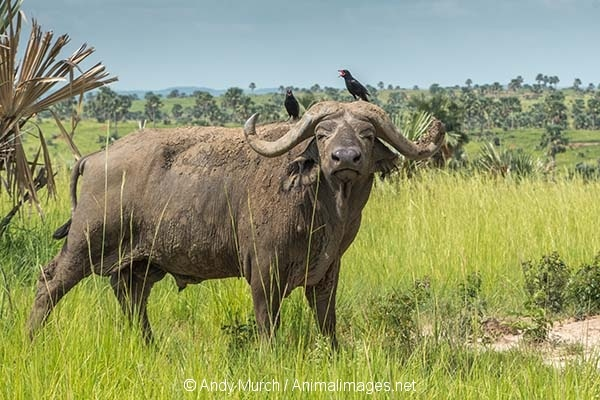buffalo: (25, 101, 445, 360)
